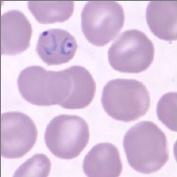Infected: (35, 28, 78, 65)
Uninfected: (124, 121, 168, 174), (16, 65, 72, 106), (102, 78, 150, 123), (48, 65, 95, 109), (108, 29, 154, 73), (80, 0, 123, 47), (44, 114, 88, 159), (0, 111, 37, 158), (0, 10, 31, 57), (83, 143, 122, 177), (146, 0, 177, 41), (28, 0, 74, 24), (12, 152, 50, 177)
